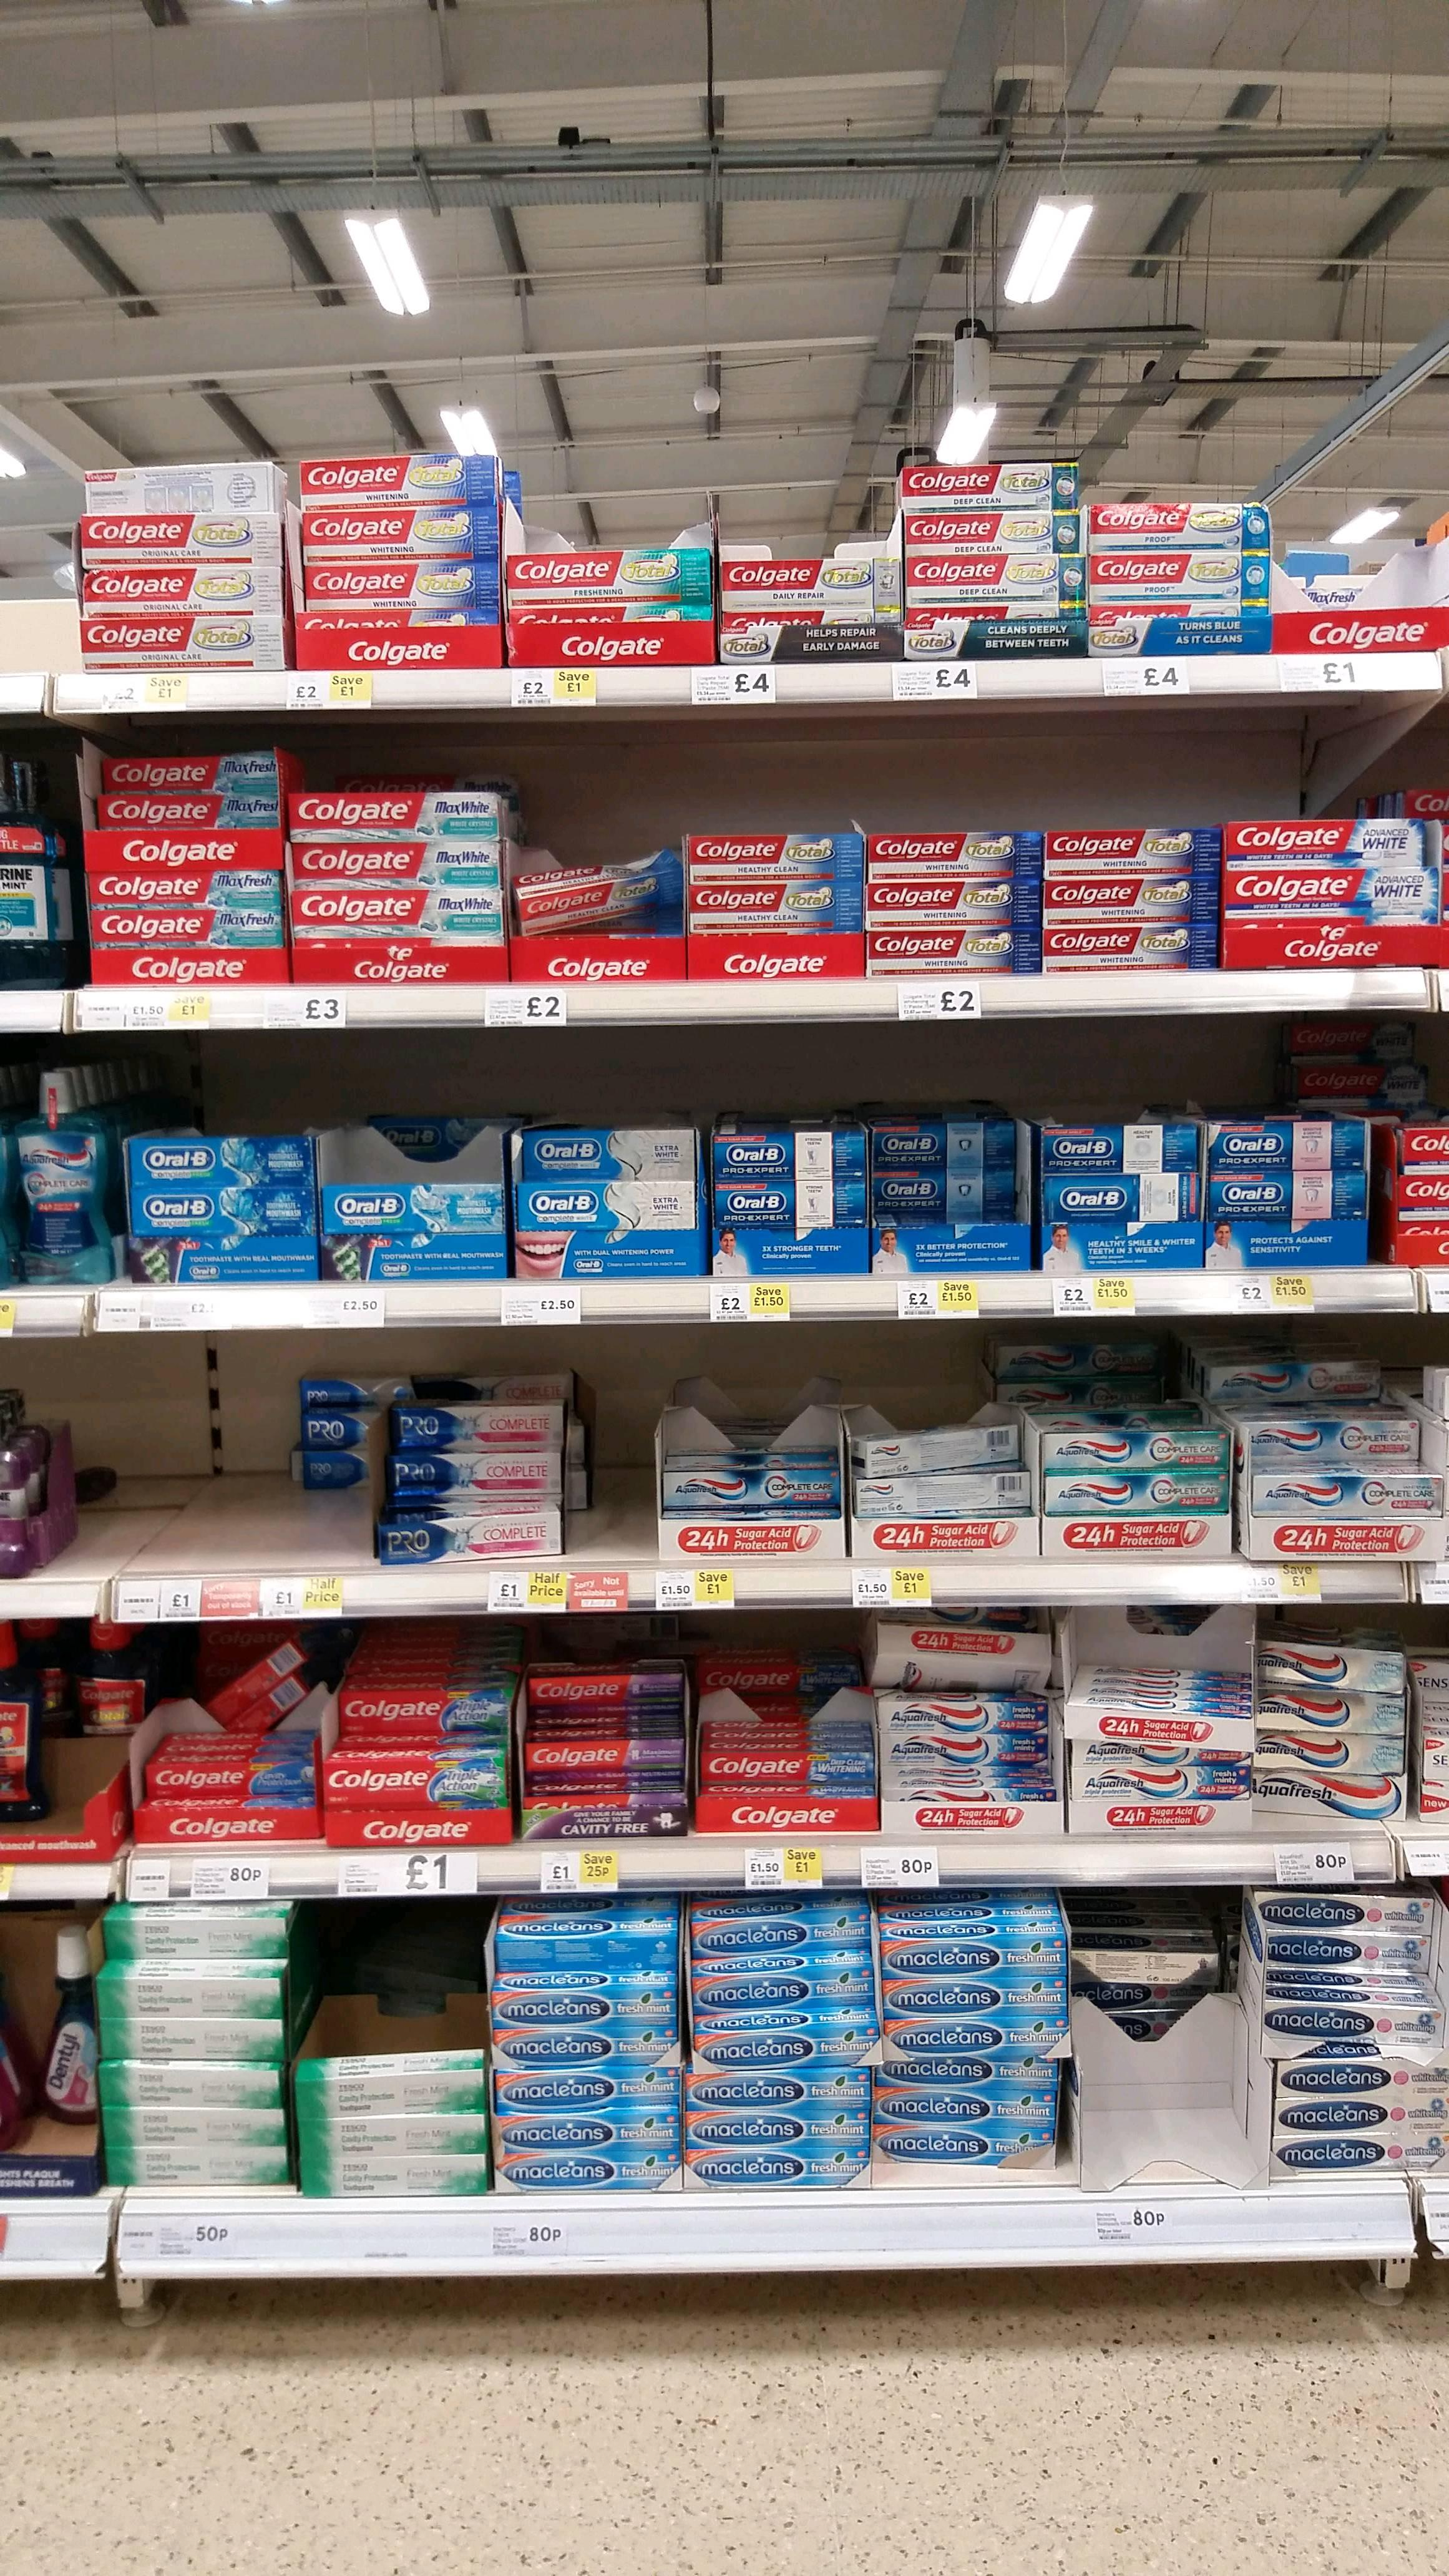empty: (113, 1353, 272, 1559), (1069, 2008, 1253, 2173)
misalignment: (853, 1614, 1060, 1695), (172, 1635, 331, 1736), (510, 847, 681, 934)
